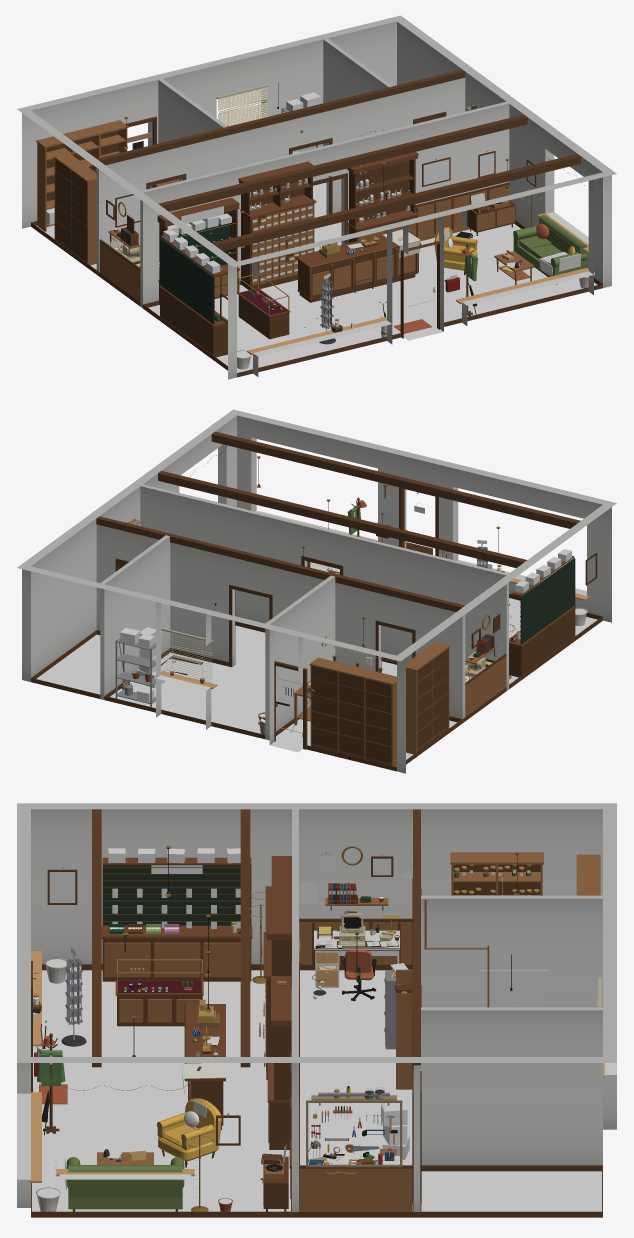
The model's file is room.glb.
3 renders of one model, top to bottom at view 1: azimuth 30°, elevation 25°; view 2: azimuth 150°, elevation 25°; view 3: azimuth 270°, elevation 25°, orthographic. The views are drawn at different scales.
Visible parts, largest first — view 1: raum:putz@haus, raum:holz@haus, raum:holz@verkauf, boden:fliesen, raum:holz@lager, raum:putz@verkauf, raum:putz@hinterzimmer, raum:putz@lager, raum:tapete@haus, raum:stoff@verkauf, raum:holzLackiert@verkauf, raum:lackBunt@haus (+16 smaller); view 2: raum:putz@haus, raum:holz@haus, raum:holz@lager, raum:putz@verkauf, boden:dielen, raum:putz@lager, raum:putz@hinterzimmer, raum:lackBunt@haus, raum:holz@buero, raum:putz@rezeptur, raum:metallBunt@hinterzimmer, raum:plastikBunt@haus (+7 smaller); view 3: raum:putz@haus, boden:fliesen, raum:holz@haus, boden:dielen, raum:holz@verkauf, raum:holz@buero, raum:stoff@verkauf, raum:lackBunt@haus, raum:holz@lager, raum:holzLackiert@verkauf, raum:holzLackiert@haus, raum:metallBunt@verkauf (+19 smaller).
Part boxes in pixels (x1,y1,x2,y2): raum:putz@haus: (17, 15, 593, 379); raum:holz@haus: (31, 69, 602, 377); raum:holz@verkauf: (159, 151, 556, 339); boden:fliesen: (148, 223, 597, 372); raum:holz@lager: (36, 116, 180, 274); raum:putz@verkauf: (228, 128, 616, 344); raum:putz@hinterzimmer: (148, 49, 329, 188); raum:putz@lager: (96, 77, 182, 273); raum:tapete@haus: (407, 103, 509, 204); raum:stoff@verkauf: (159, 194, 587, 333); raum:holzLackiert@verkauf: (157, 152, 418, 317); raum:lackBunt@haus: (160, 238, 214, 324); raum:putz@haus: (17, 415, 611, 773); raum:holz@haus: (31, 431, 602, 771); raum:holz@lager: (274, 620, 462, 766); raum:putz@verkauf: (170, 409, 616, 622); boden:dielen: (36, 625, 457, 766); raum:putz@lager: (270, 593, 465, 719); raum:putz@hinterzimmer: (156, 557, 274, 744); raum:lackBunt@haus: (520, 558, 575, 644); raum:holz@buero: (131, 519, 506, 716); raum:putz@rezeptur: (96, 524, 146, 630); raum:metallBunt@hinterzimmer: (115, 577, 328, 734); raum:plastikBunt@haus: (161, 548, 303, 684); raum:putz@haus: (17, 803, 616, 1211); boden:fliesen: (32, 970, 290, 1211); raum:holz@haus: (29, 809, 602, 1217); boden:dielen: (300, 970, 601, 1211); raum:holz@verkauf: (31, 869, 291, 1211); raum:holz@buero: (299, 856, 413, 1211); raum:stoff@verkauf: (37, 906, 263, 1210); raum:lackBunt@haus: (102, 865, 251, 925); raum:holz@lager: (421, 852, 600, 895); raum:holzLackiert@verkauf: (115, 856, 291, 1102); raum:holzLackiert@haus: (101, 857, 252, 1081); raum:metallBunt@verkauf: (31, 846, 291, 1211).
Size of the model in its own units: 10.85 by 3.4 by 10.6.
